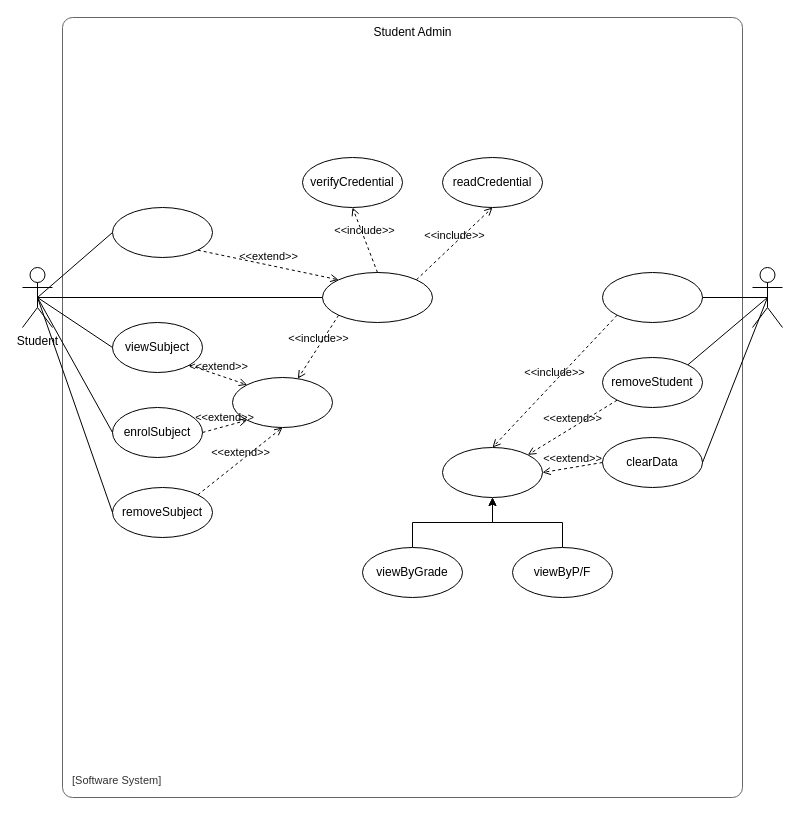
This 808x815 diagram has some shape labels left out. The shapes that lost their labels are listed below. From the top down, each one's centre as x and y in pixels, then its label:
At pixel 162 232: "changePassword".
At pixel 377 297: "Login".
At pixel 652 297: "viewStudents".
At pixel 767 297: "Manager".
At pixel 282 402: "showSubject".
At pixel 492 472: "showStudent".
